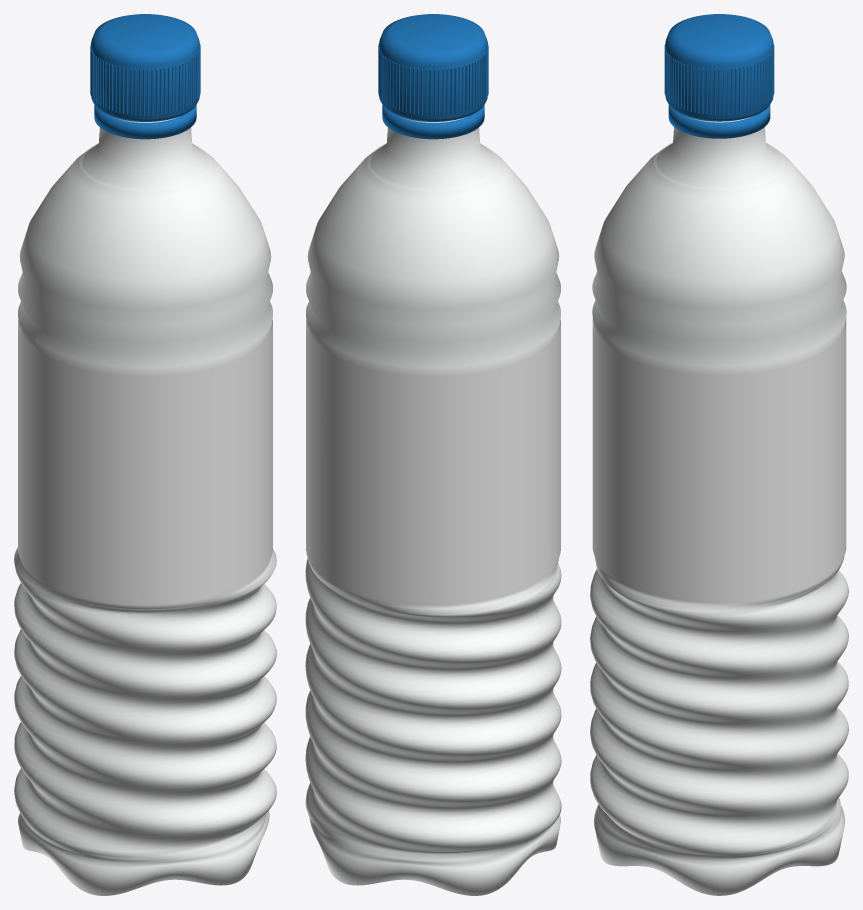
Rendered from product.glb.
3 renders of one model, left to right at view 1: azimuth 30°, elevation 25°; view 2: azimuth 150°, elevation 25°; view 3: azimuth 270°, elevation 25°, orthographic.
Visible parts, largest first — view 1: PET shell with spiral ribs and five-lobe base, WaterWrapLabel, Cap and tamper ring, Water volume and meniscus; view 2: PET shell with spiral ribs and five-lobe base, WaterWrapLabel, Cap and tamper ring, Water volume and meniscus; view 3: PET shell with spiral ribs and five-lobe base, WaterWrapLabel, Cap and tamper ring, Water volume and meniscus.
Boxes of the visible parts, x1,y1,x2,y2 form: PET shell with spiral ribs and five-lobe base: (14,117,276,895); WaterWrapLabel: (18,320,272,602); Cap and tamper ring: (90,14,200,139); Water volume and meniscus: (76,143,214,195); PET shell with spiral ribs and five-lobe base: (305,117,561,895); WaterWrapLabel: (306,320,560,602); Cap and tamper ring: (378,14,488,139); Water volume and meniscus: (364,143,502,195); PET shell with spiral ribs and five-lobe base: (590,116,848,895); WaterWrapLabel: (592,318,846,599); Cap and tamper ring: (664,14,774,138); Water volume and meniscus: (651,143,787,194).
Size of the model in its own units: 0.0662 by 0.23 by 0.0662.
